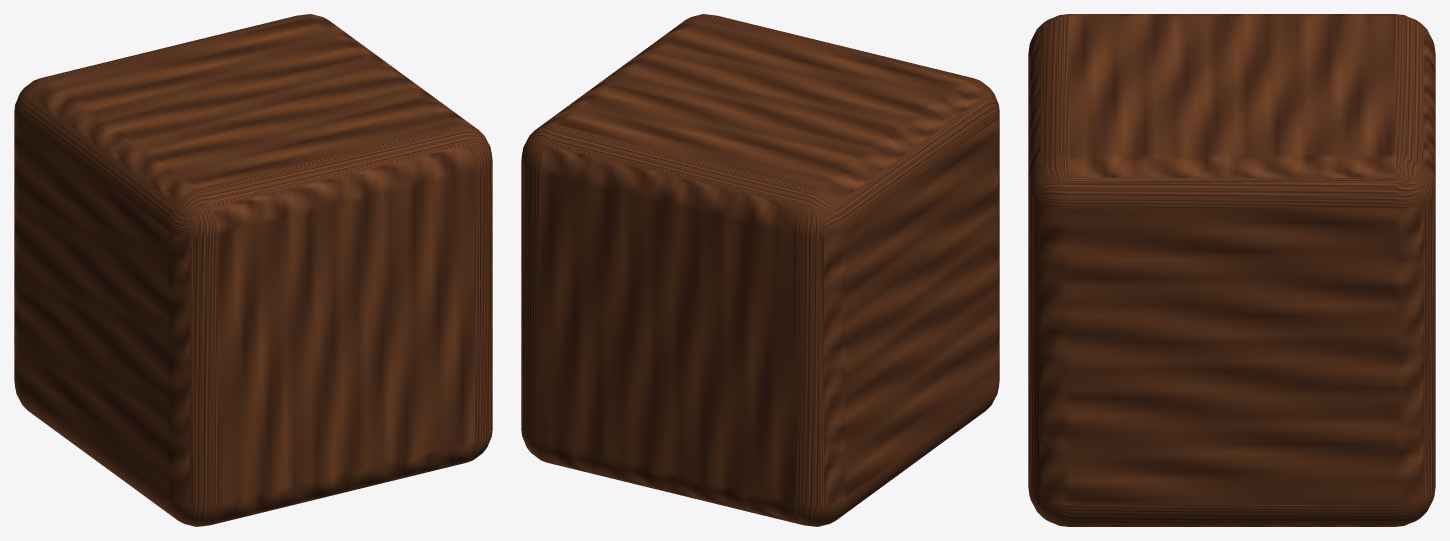
The model's file is walnut.gltf.
3 views of the same model, side by side, from view 1: azimuth 30°, elevation 25°; view 2: azimuth 150°, elevation 25°; view 3: azimuth 270°, elevation 25° (orthographic). The views are drawn at different scales.
Parts seen in each view (by area): view 1: walnut; view 2: walnut; view 3: walnut.
Boxes of the visible parts, bbox=[...] form: walnut: bbox=[14, 14, 492, 526]; walnut: bbox=[521, 14, 999, 526]; walnut: bbox=[1028, 14, 1435, 526].
Size of the model in its own units: 1 by 1 by 1.
Materials: 1 (1 with a texture image).
